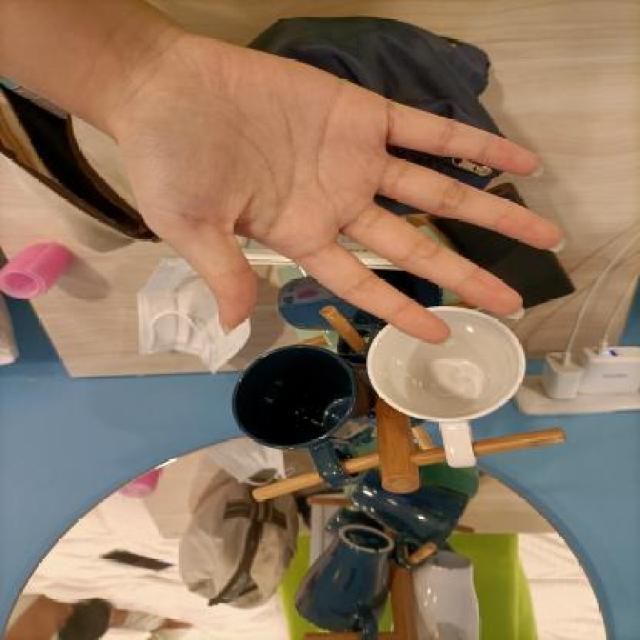bare_hand: (69, 23, 569, 365)
